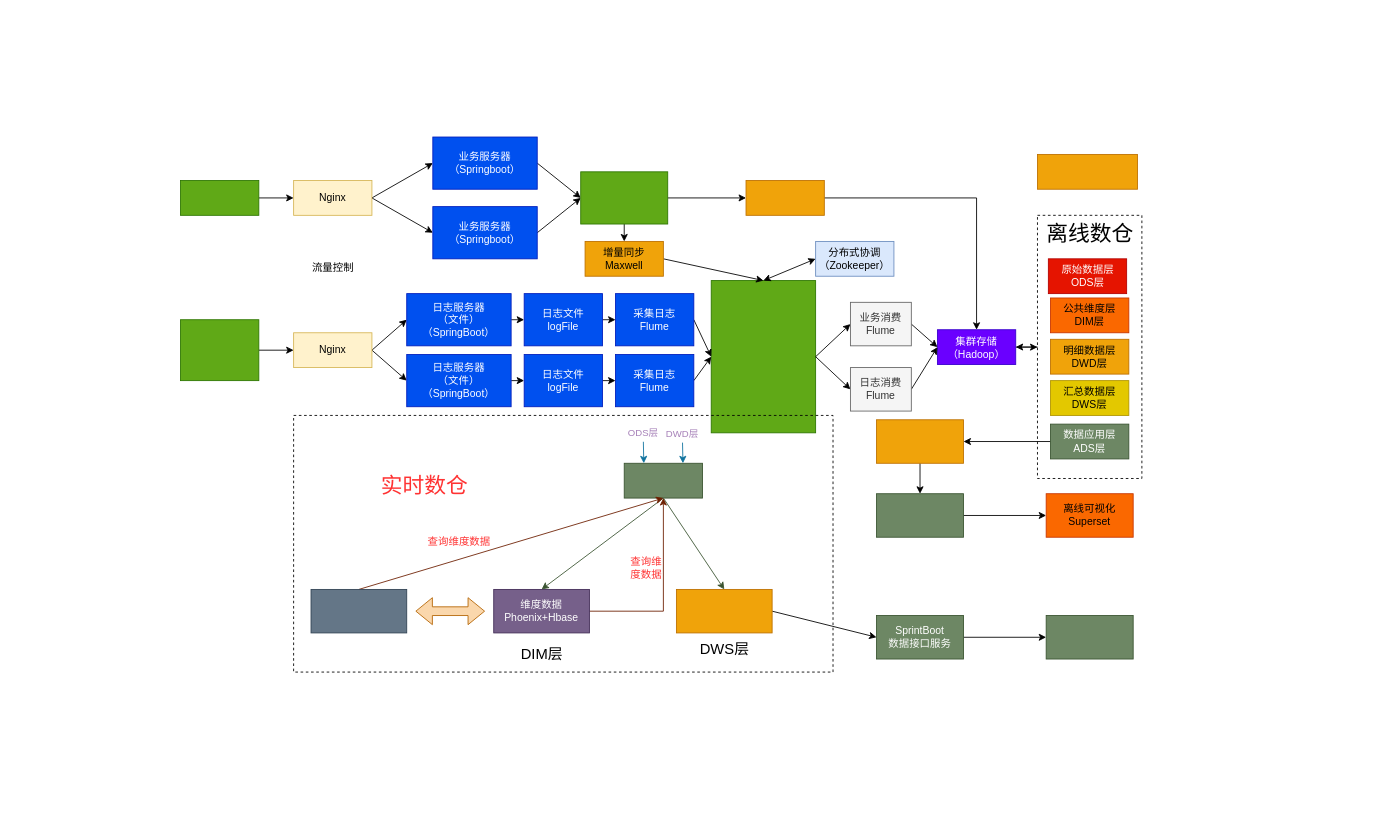
Image size: 1387x830. Some labels were removed from this diagram. Here are the shapes that lost their labels. From the top down, the centre of each, then its label:
At point (1087, 171): "定时调度 DolphinScheduler".
At point (219, 197): "Web/App 业务交互".
At point (624, 197): "业务数据 （Mysql）".
At point (784, 197): "每日全量 （DataX）".
At point (219, 350): "Web/App 前端埋点 用户行为 数据".
At point (763, 356): "消息缓存 Kafka集群".
At point (920, 441): "每日同步 DataX".
At point (663, 480): "Flink".
At point (920, 515): "结果数据 Mysql".
At point (358, 611): "旁路缓存 Redis".
At point (724, 611): "查询宽表 ClickHouse".
At point (1089, 637): "实时可视化 Sugar".
